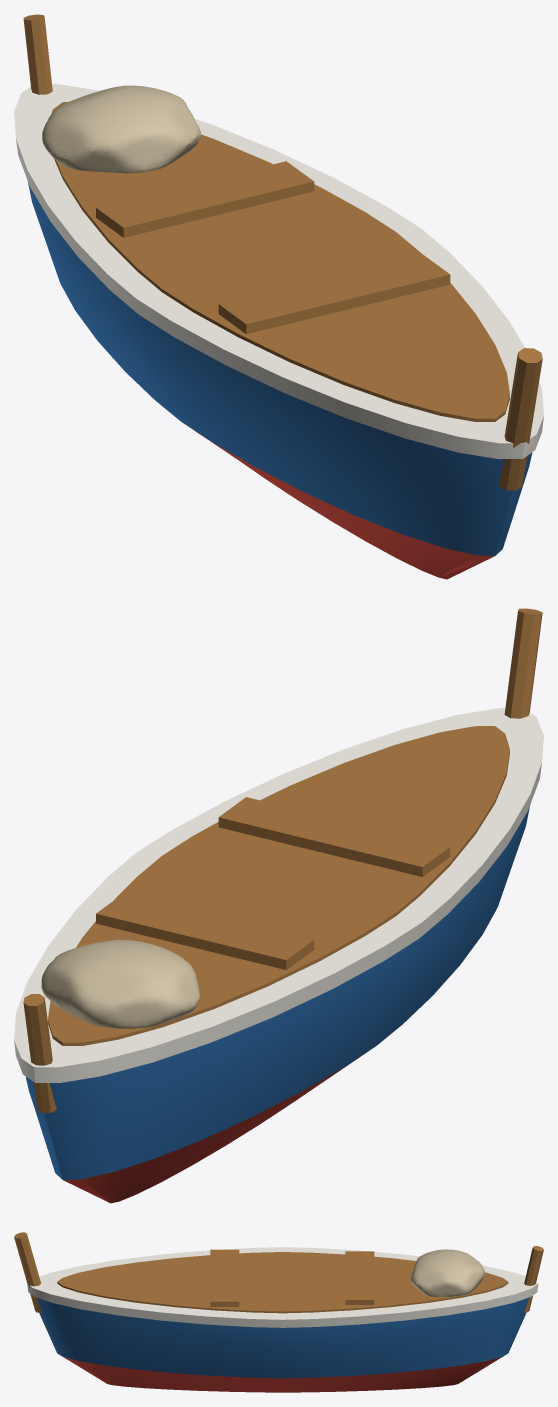
File: boat-fishing.glb
3 renders of one model, top to bottom at view 1: azimuth 30°, elevation 25°; view 2: azimuth 150°, elevation 25°; view 3: azimuth 270°, elevation 25°, orthographic. The views are drawn at different scales.
Parts seen in each view (by area): view 1: wood3, hull1, trim2, rope8, wood7, wood6, red0, wood4, wood5; view 2: wood3, hull1, trim2, rope8, wood7, wood6, red0, wood4, wood5; view 3: hull1, wood3, trim2, red0, rope8, wood7, wood6, wood4, wood5.
Part boxes in pixels (left/top/right/bottom): wood3: left=51, top=102, right=509, bottom=421; hull1: left=28, top=182, right=532, bottom=555; trim2: left=14, top=84, right=543, bottom=459; rope8: left=42, top=85, right=200, bottom=173; wood7: left=218, top=254, right=450, bottom=334; wood6: left=96, top=161, right=314, bottom=237; red0: left=195, top=431, right=494, bottom=579; wood4: left=499, top=348, right=542, bottom=490; wood5: left=23, top=14, right=52, bottom=94; wood3: left=48, top=726, right=509, bottom=1045; hull1: left=25, top=806, right=529, bottom=1179; trim2: left=14, top=708, right=543, bottom=1083; rope8: left=41, top=939, right=200, bottom=1028; wood7: left=218, top=797, right=450, bottom=876; wood6: left=96, top=893, right=314, bottom=969; red0: left=63, top=1051, right=368, bottom=1203; wood4: left=504, top=608, right=542, bottom=718; wood5: left=23, top=994, right=56, bottom=1113; hull1: left=37, top=1297, right=529, bottom=1378; wood3: left=57, top=1252, right=508, bottom=1313; trim2: left=27, top=1247, right=538, bottom=1327; red0: left=63, top=1356, right=502, bottom=1392; rope8: left=410, top=1249, right=484, bottom=1296; wood7: left=210, top=1249, right=239, bottom=1306; wood6: left=345, top=1251, right=374, bottom=1304; wood4: left=14, top=1232, right=41, bottom=1312; wood5: left=524, top=1246, right=543, bottom=1312.
Bounding box in the file's own units: 1.78 × 1.72 × 5.5.
